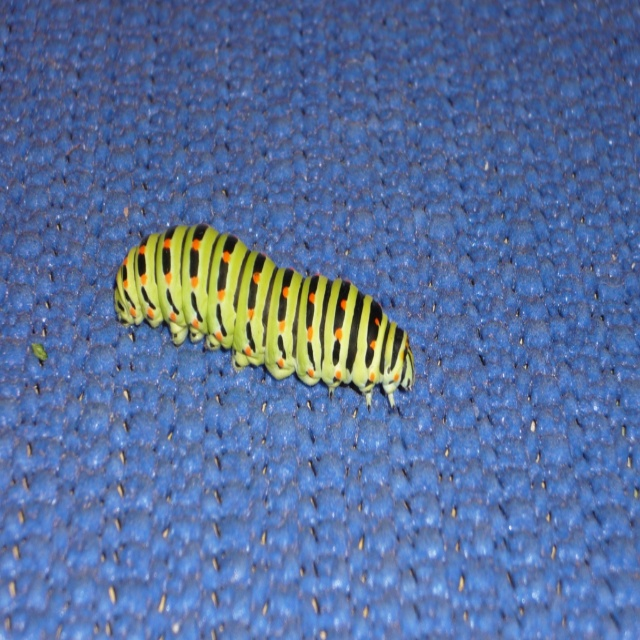Caterpillar: (113, 222, 416, 408)
